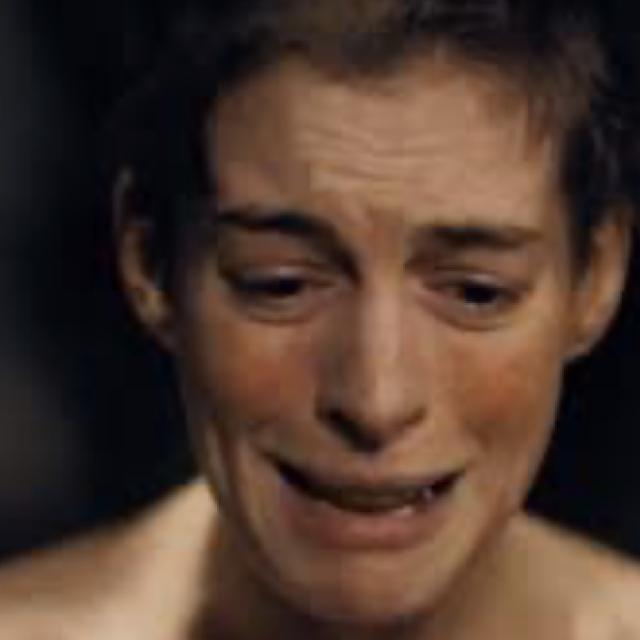sad: (130, 14, 576, 617)
